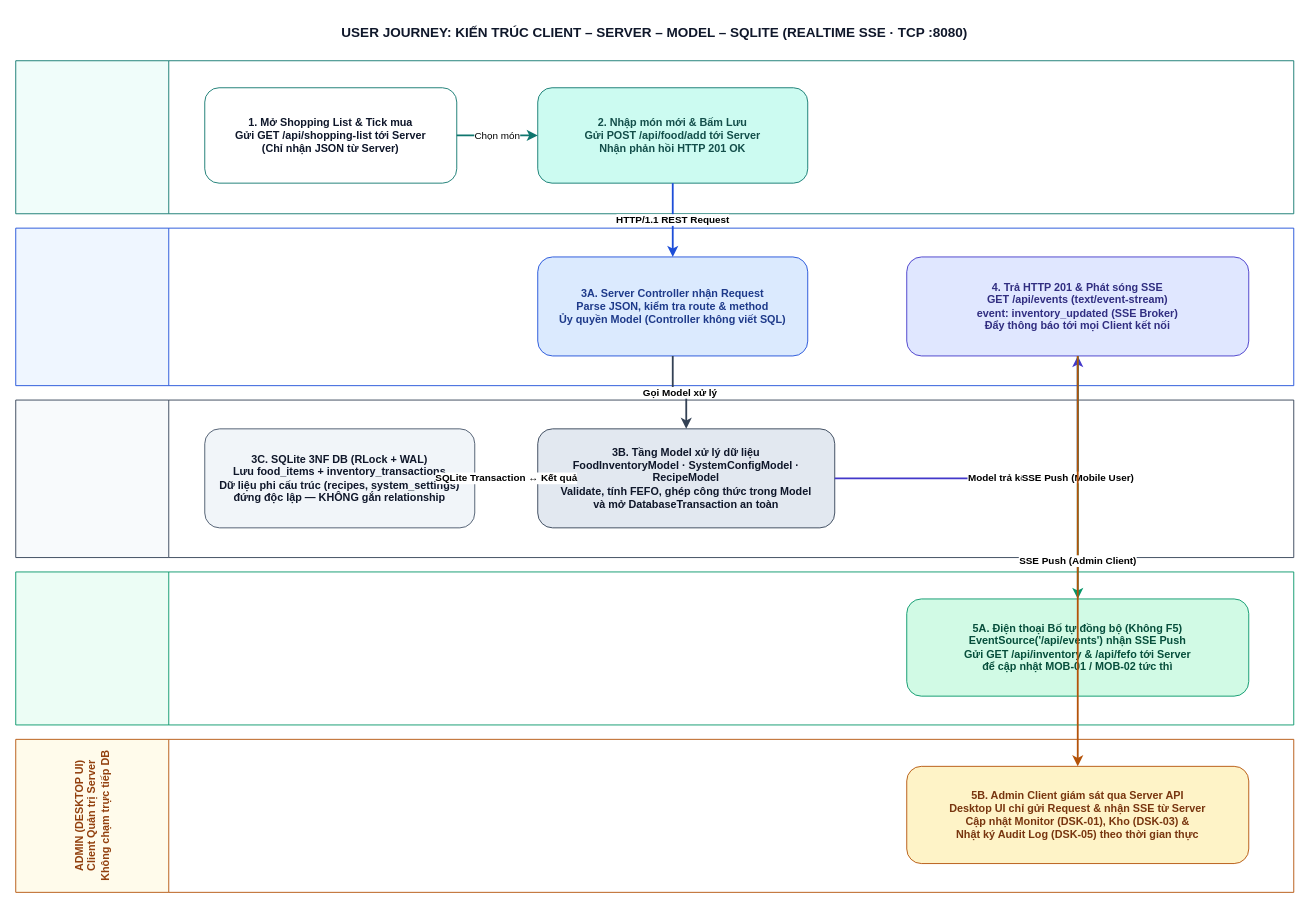
This 1310x908 diagram has some shape labels left out. The box of each missing label's shape, as (x1, y1, x2, y2) in pixels:
NGƯỜI DÙNG 1 — MẸ (Mobile Client #1) Không chạm trực tiếp DB: (15, 60, 1294, 214)
NGƯỜI DÙNG 2 — BỐ (Mobile Client #2) Không chạm trực tiếp DB: (15, 571, 1294, 725)
PYTHON SERVER (:8080) tcp_server.py (Controller) Tiếp nhận & Trả Response/SSE: (15, 227, 1294, 386)
TẦNG MODEL & SQLITE DB server/models/* + database.py Model xử lý 100% dữ liệu: (15, 399, 1294, 558)
